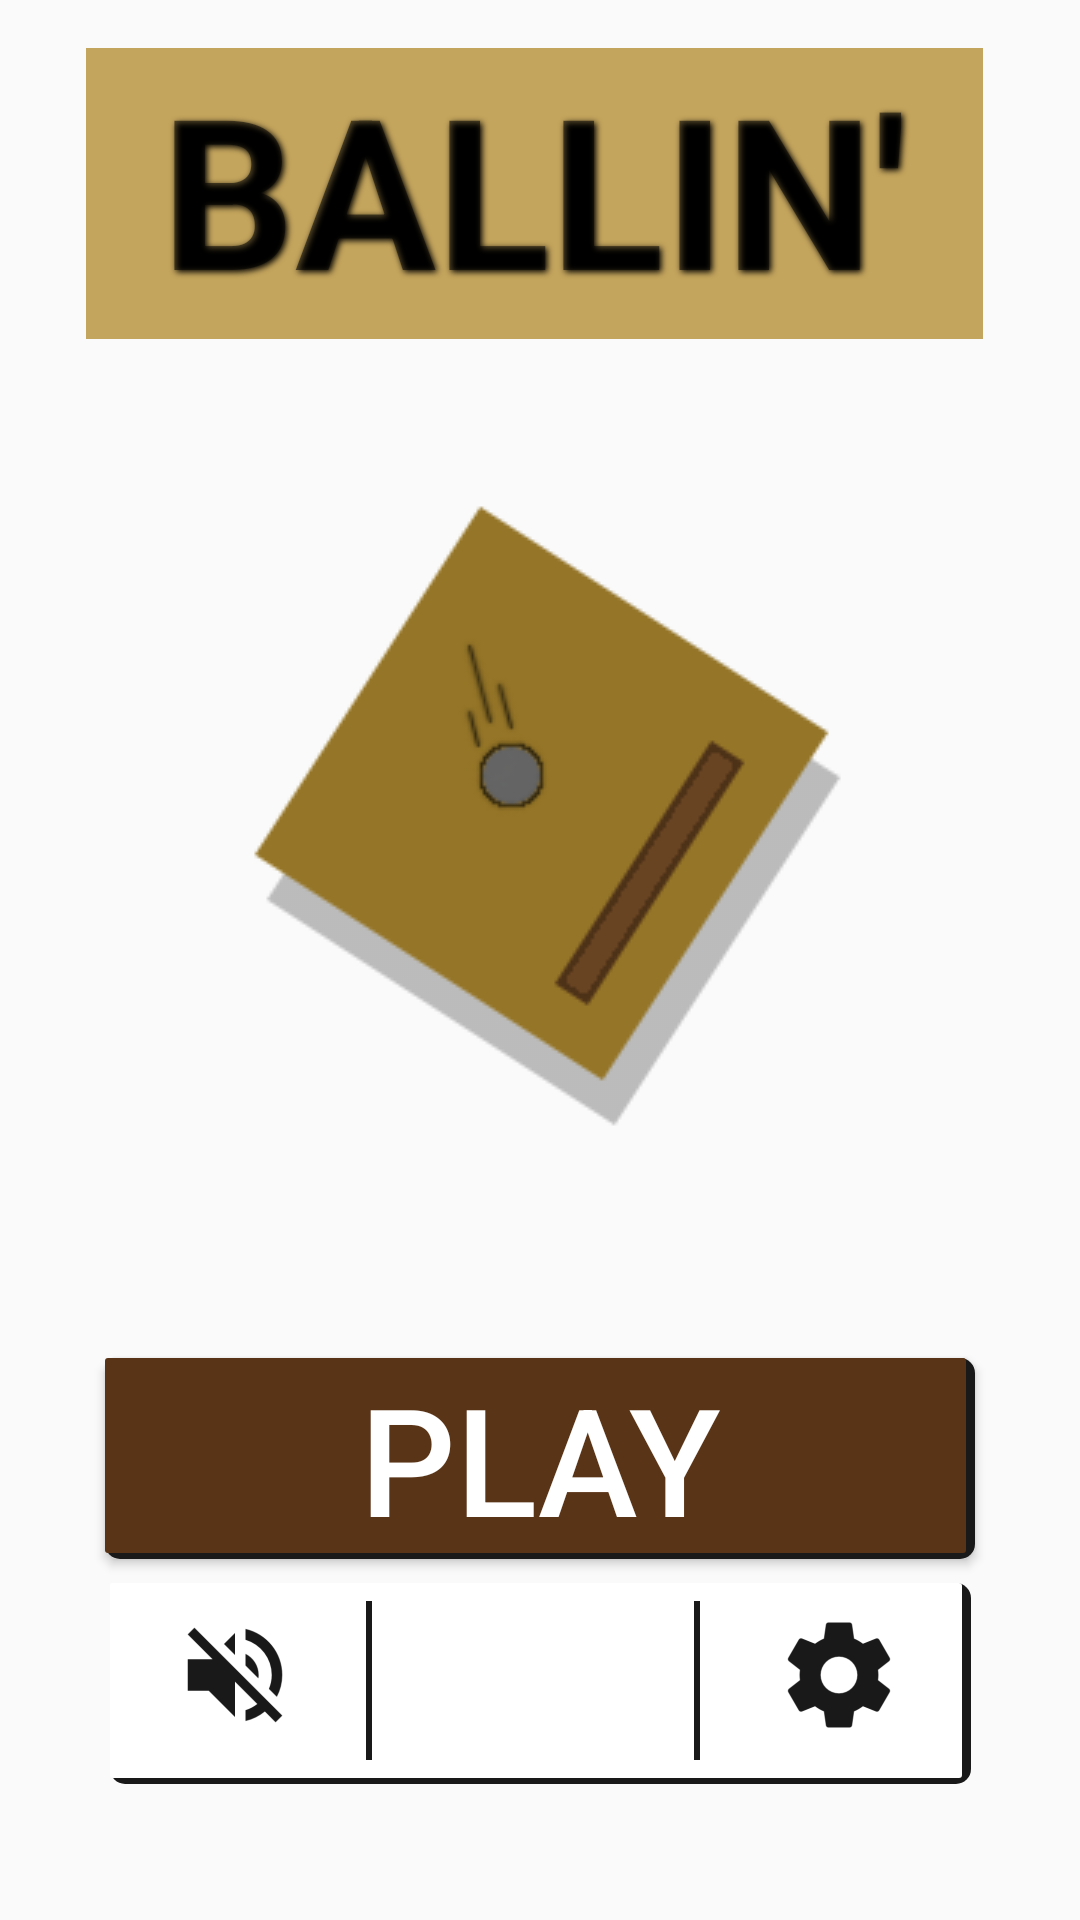

Screen size 1080w x 1920h. Icon name, then its center in pixels as (x=x, y=y):
settings: (x=838, y=1675)
sound toggle: (x=235, y=1675)
